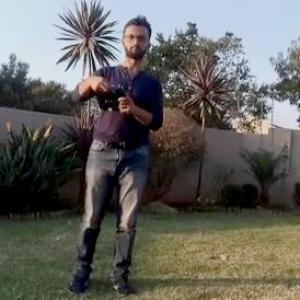follow: (59, 9, 168, 299)
